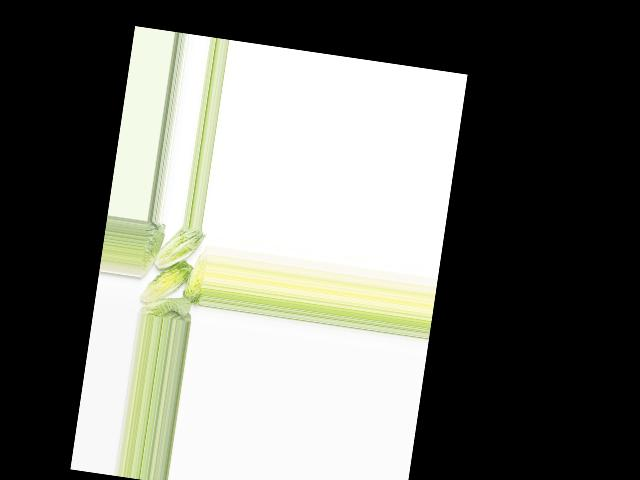lettuce: (139, 290, 194, 322)
